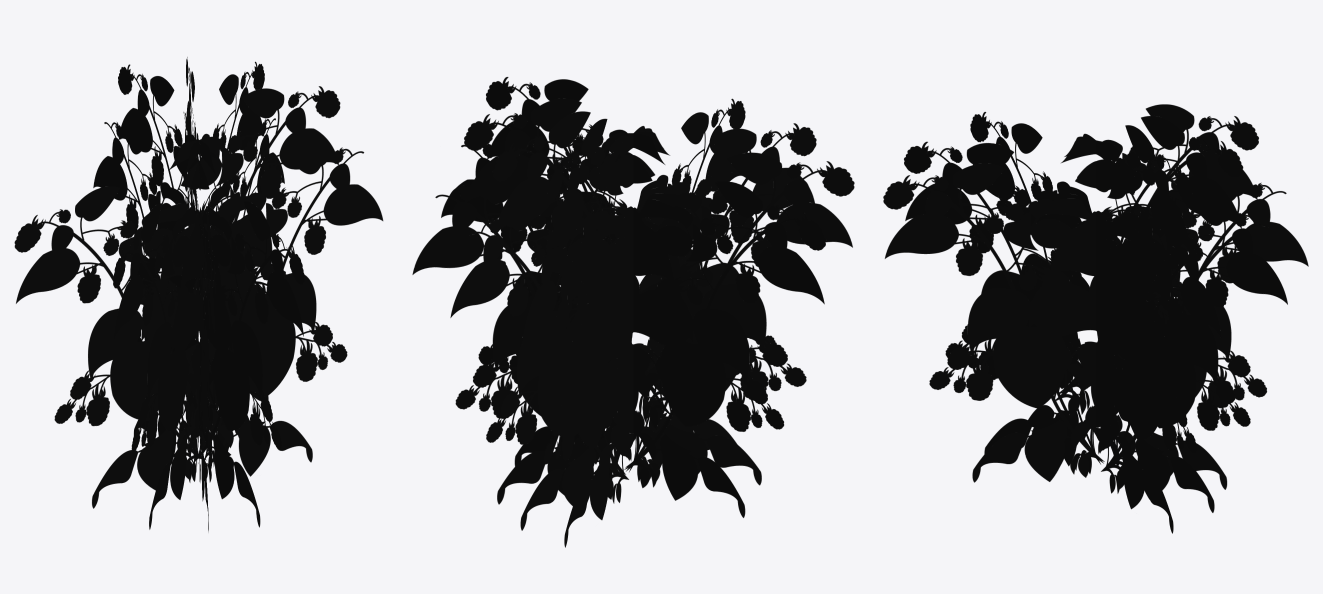
Rendered from BushRaspberry.glb.
3 views of the same model, side by side, from view 1: azimuth 30°, elevation 25°; view 2: azimuth 150°, elevation 25°; view 3: azimuth 270°, elevation 25° (orthographic). The views are drawn at different scales.
Parts seen in each view (by area): view 1: BushRaspberry; view 2: BushRaspberry; view 3: BushRaspberry.
Boxes of the visible parts, bbox=[...] form: BushRaspberry: bbox=[14, 57, 383, 531]; BushRaspberry: bbox=[412, 77, 854, 547]; BushRaspberry: bbox=[883, 104, 1308, 533].
Bounding box in the file's own units: 2 × 2 × 2.
1 material, 1 textured.
